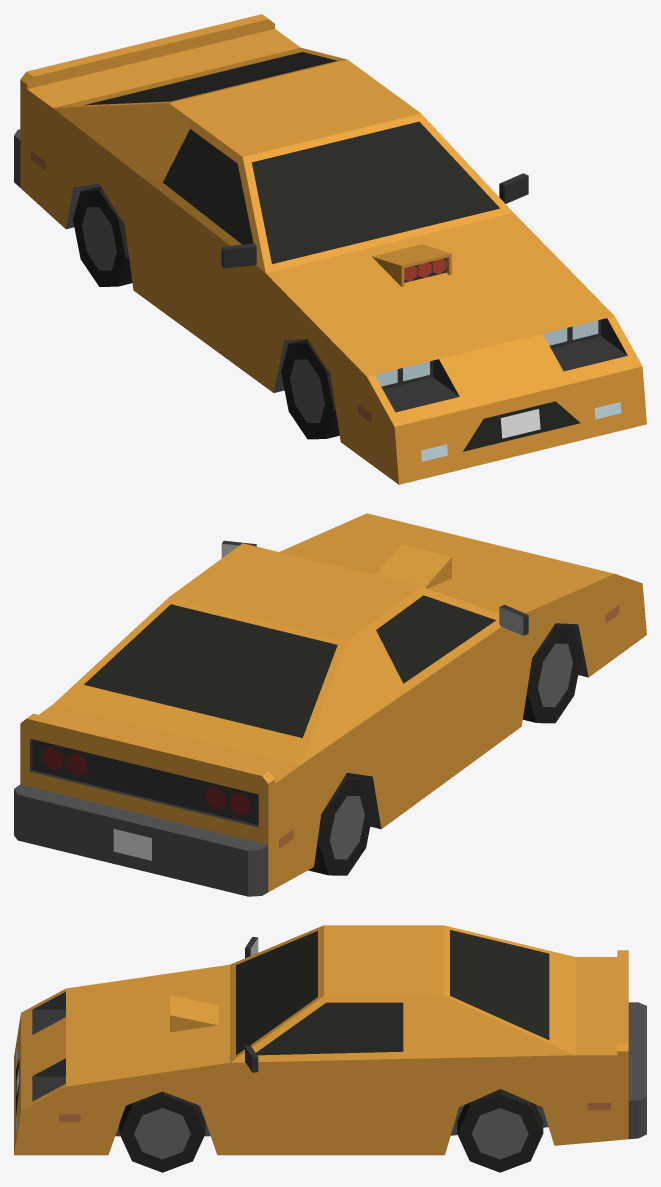
File: Veh_Muscle_Car_03_Yellow.obj
3 views of the same model, one above another, from view 1: azimuth 30°, elevation 25°; view 2: azimuth 150°, elevation 25°; view 3: azimuth 270°, elevation 25° (orthographic). The views are drawn at different scales.
Bounding box in the file's own units: 1.24 × 0.7814 × 2.75.
